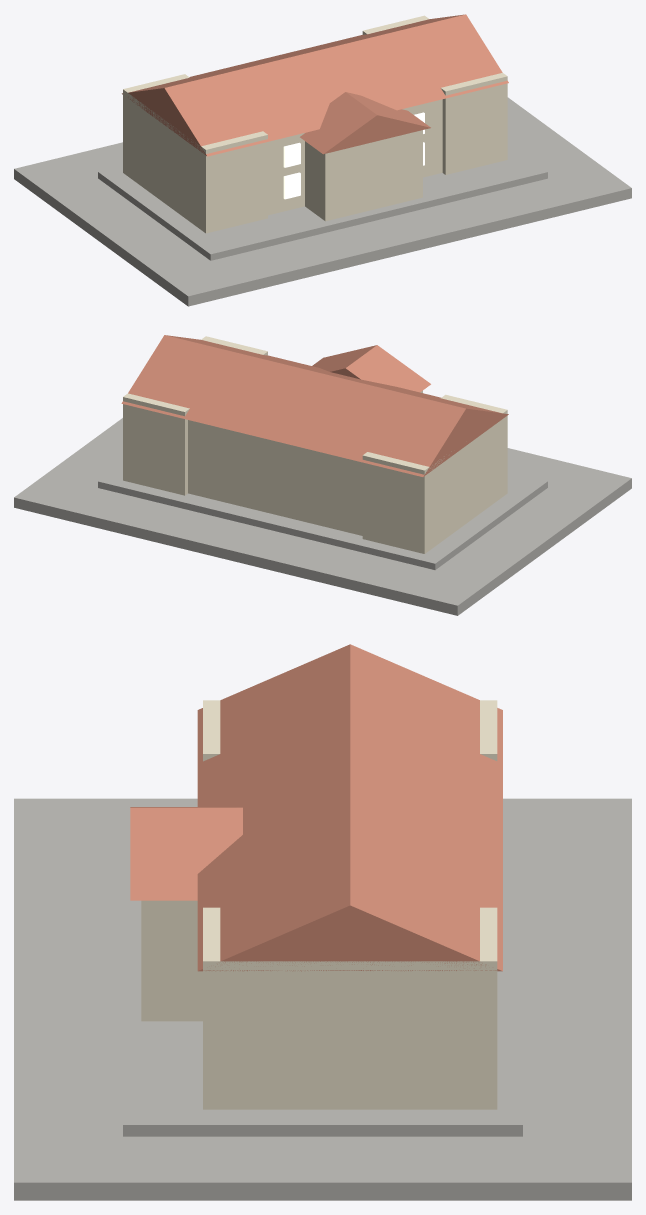
Rendered from lm_40_bao_tang_lam_dong_dinh_nguyen_huu_hao.glb.
The picture shows the model from 3 angles, top to bottom: view 1: azimuth 30°, elevation 25°; view 2: azimuth 150°, elevation 25°; view 3: azimuth 270°, elevation 25°; orthographic projection. The views are drawn at different scales.
Parts seen in each view (by area): view 1: lm_40_bao_tang_lam_dong_dinh_nguyen_huu_hao; view 2: lm_40_bao_tang_lam_dong_dinh_nguyen_huu_hao; view 3: lm_40_bao_tang_lam_dong_dinh_nguyen_huu_hao.
Boxes of the visible parts, x1=… form: lm_40_bao_tang_lam_dong_dinh_nguyen_huu_hao: x1=14, y1=14, x2=631, y2=306; lm_40_bao_tang_lam_dong_dinh_nguyen_huu_hao: x1=14, y1=335, x2=631, y2=615; lm_40_bao_tang_lam_dong_dinh_nguyen_huu_hao: x1=14, y1=644, x2=631, y2=1200.
Bounding box in the file's own units: 50 × 14.2 × 34.
